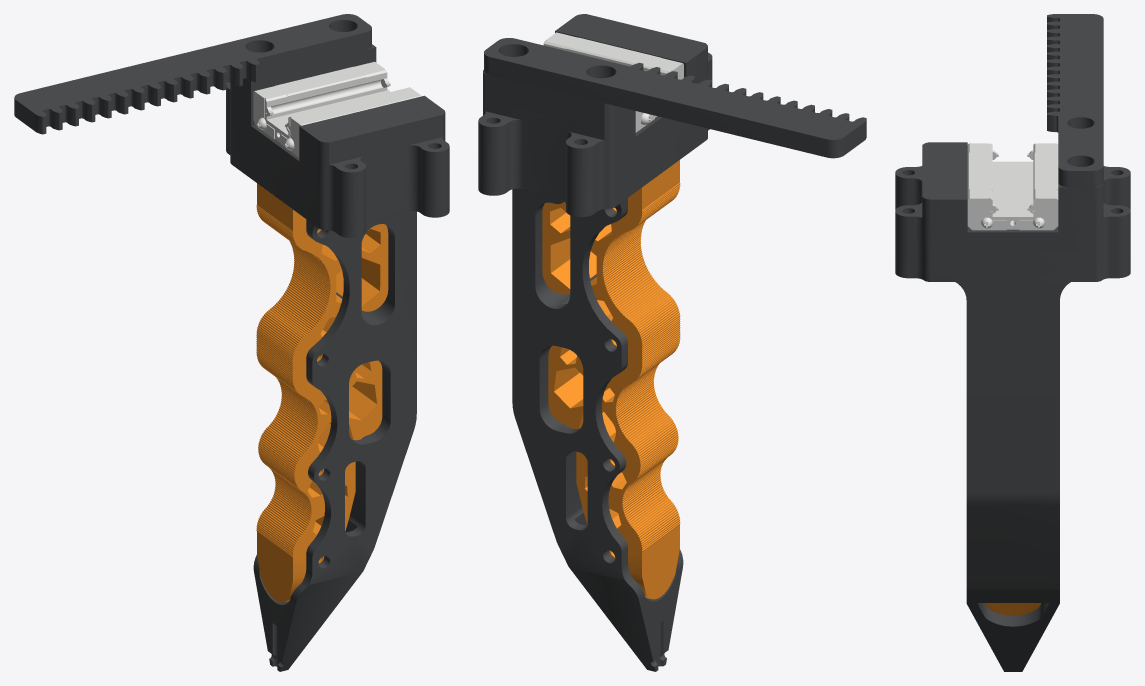
File: right_finger_link.glb
3 renders of one model, left to right at view 1: azimuth 30°, elevation 25°; view 2: azimuth 150°, elevation 25°; view 3: azimuth 270°, elevation 25°, orthographic. The views are drawn at different scales.
Parts seen in each view (by area): view 1: right_finger_link:finger_carrier_graphite, right_finger_link:soft_finger_orange, right_finger_link:silver_metal; view 2: right_finger_link:finger_carrier_graphite, right_finger_link:soft_finger_orange, right_finger_link:silver_metal; view 3: right_finger_link:finger_carrier_graphite, right_finger_link:silver_metal, right_finger_link:soft_finger_orange.
Boxes of the visible parts, <box> form: right_finger_link:finger_carrier_graphite: <box>14,14,449,671</box>; right_finger_link:soft_finger_orange: <box>256,183,388,602</box>; right_finger_link:silver_metal: <box>253,61,421,157</box>; right_finger_link:finger_carrier_graphite: <box>478,14,866,671</box>; right_finger_link:soft_finger_orange: <box>542,160,680,599</box>; right_finger_link:silver_metal: <box>543,32,683,132</box>; right_finger_link:finger_carrier_graphite: <box>895,14,1130,671</box>; right_finger_link:silver_metal: <box>967,143,1058,230</box>; right_finger_link:soft_finger_orange: <box>985,603,1041,615</box>.
Bounding box in the file's own units: 0.0827 × 0.1351 × 0.052.
